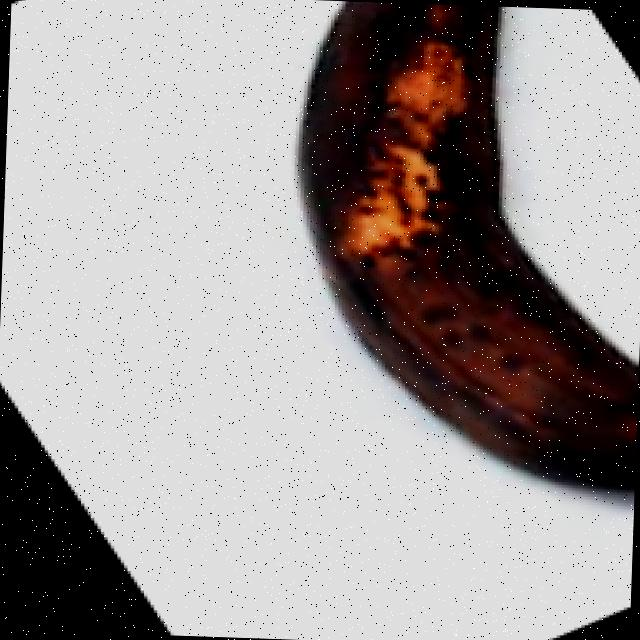Rotten: (258, 0, 640, 514)
